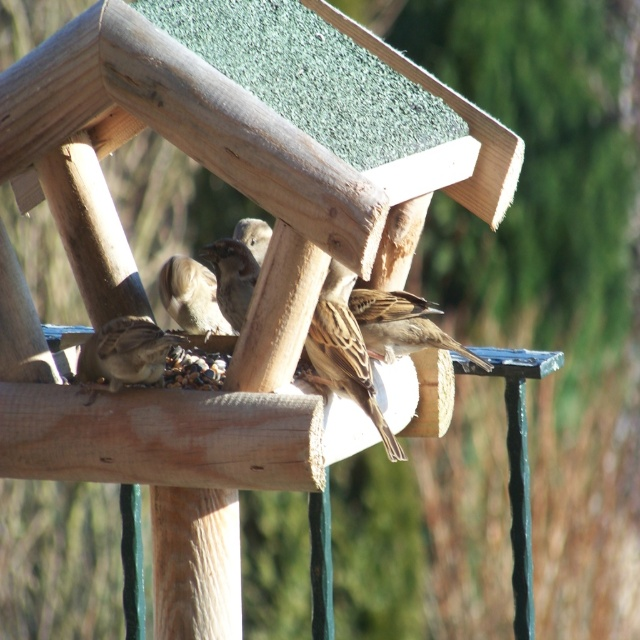Sparrow: (74, 218, 495, 463)
